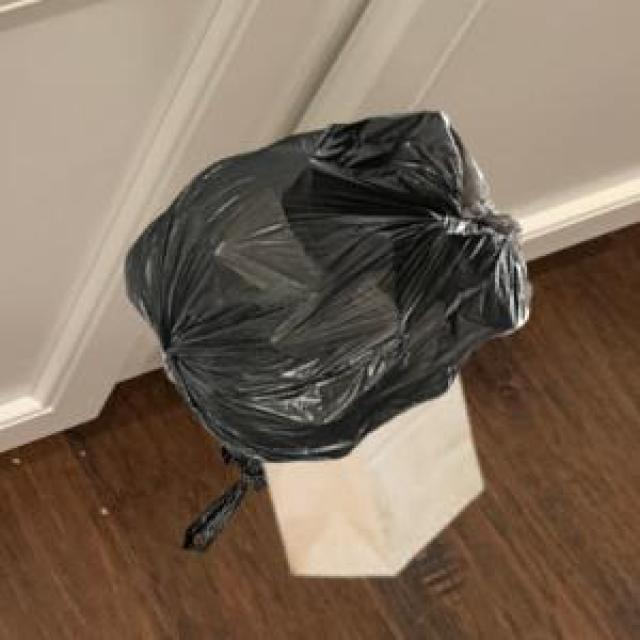miscellaneous trash: (122, 107, 527, 459), (177, 435, 265, 548)
paper: (258, 371, 478, 572)
